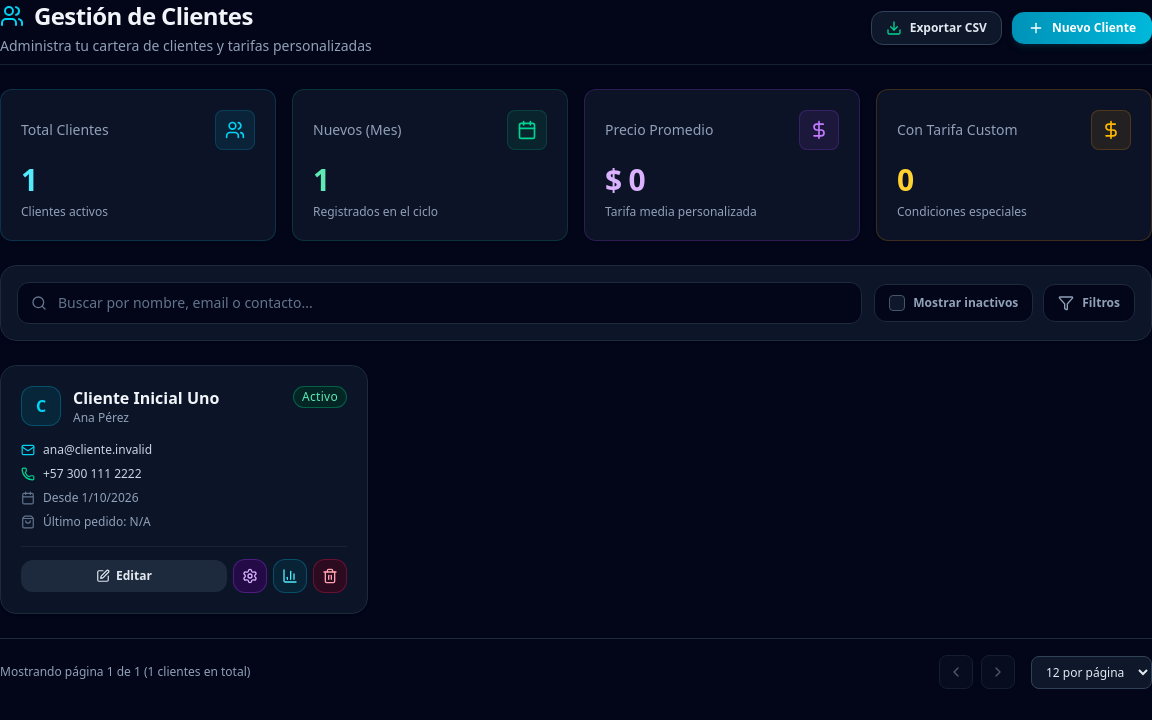
Test: Flujo representativo de creación y visualización de registros con API mockeada › permite registrar un nuevo cliente y visualizarlo inmediatamente en el listado
Expected: the heading "Cliente Inicial Uno" is shown, [73,386,219,410]
# Abrir modal de nuevo cliente
Click the button "Nuevo Cliente": point(1082, 28) [1012,12,1151,44]
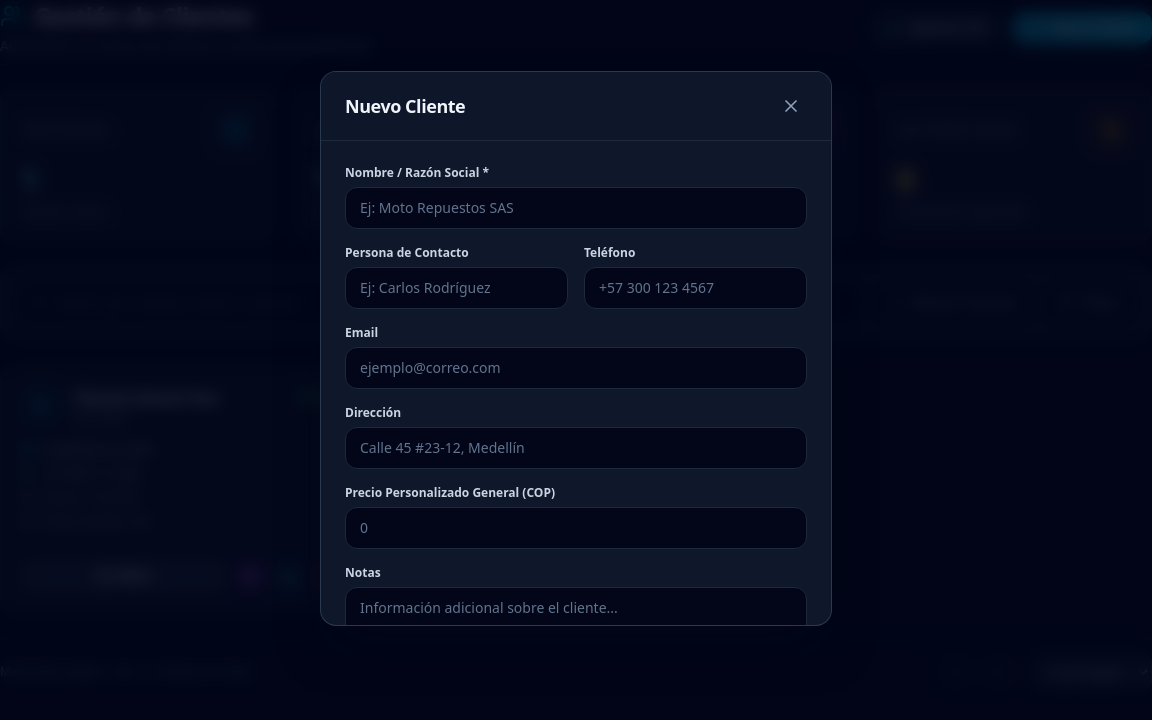
# Completar campos del formulario
In the field labelled "Nombre / Razón Social *": point(576, 208) [345,186,807,228], type "Comercializadora Pacífico S.A.S."
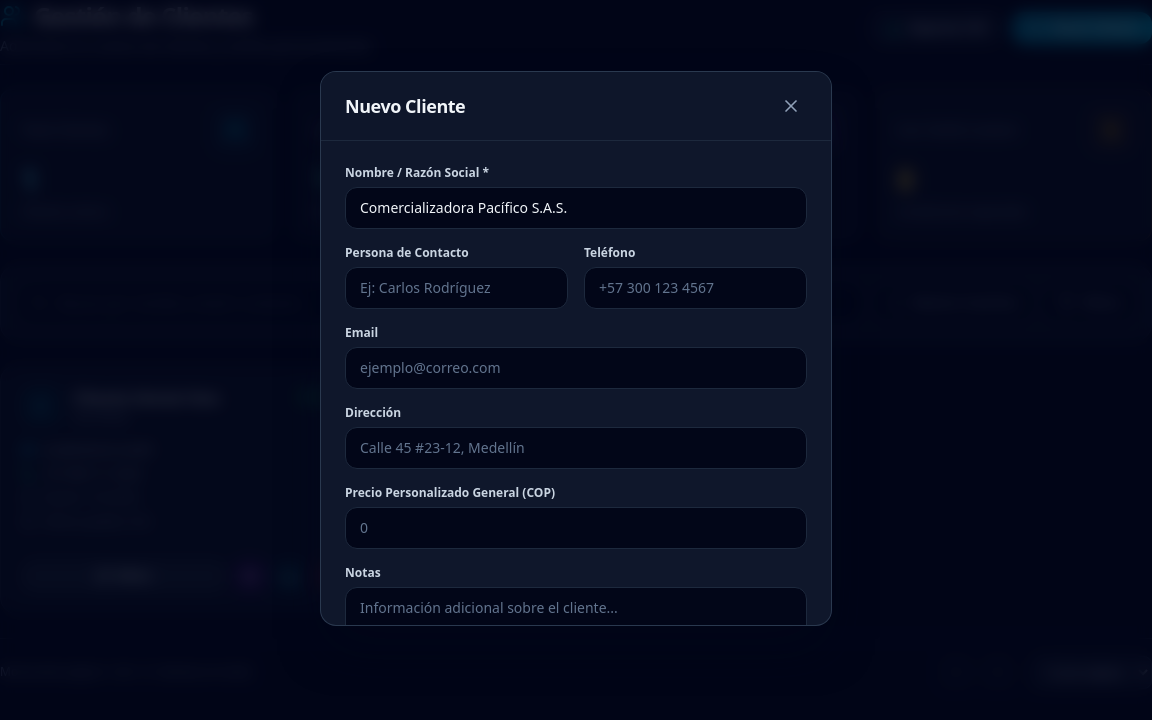
In the field labelled "Persona de Contacto": point(456, 288) [345,266,568,308], type "Carlos Gómez"
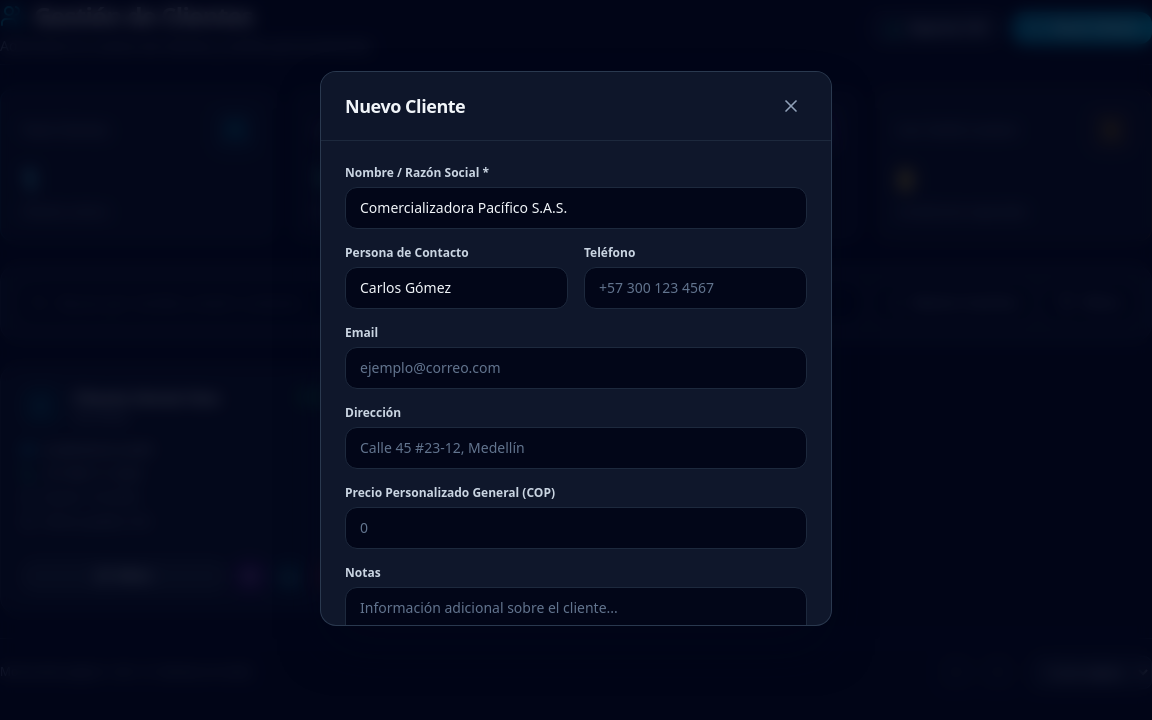
In the field labelled "Email": point(576, 368) [345,346,807,388], type "contacto@pacifico.invalid"
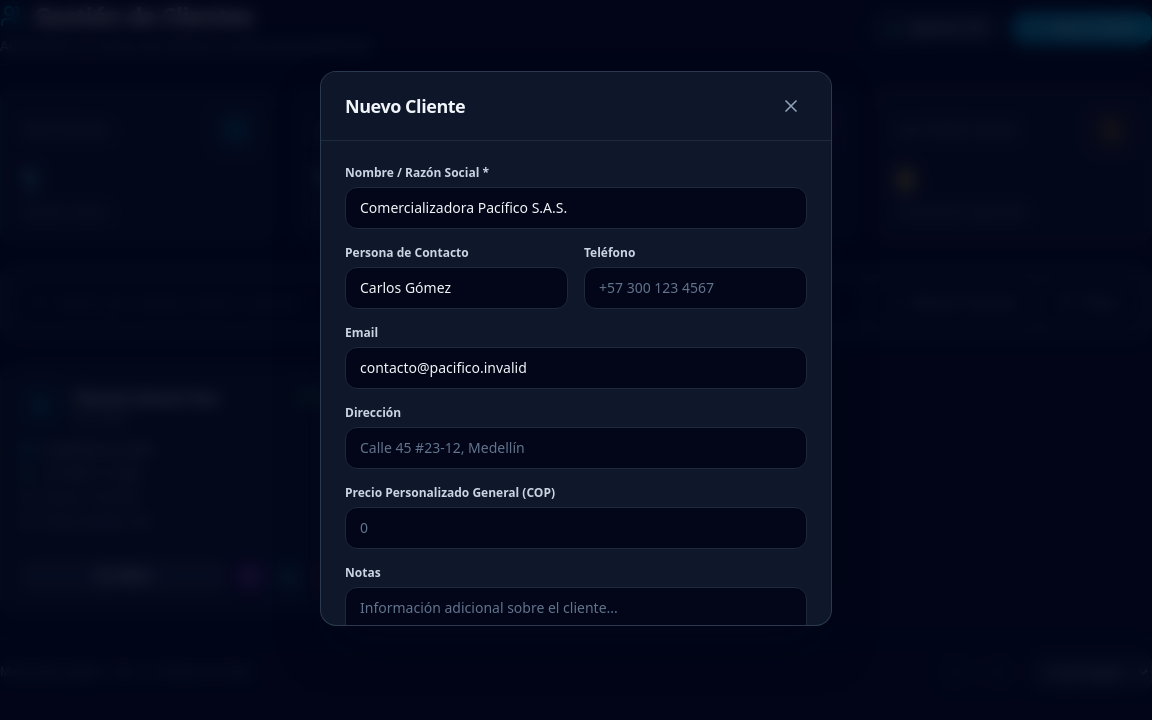
In the field labelled "Teléfono": point(696, 288) [584,266,807,308], type "+57 311 999 8888"
(page scrolled)
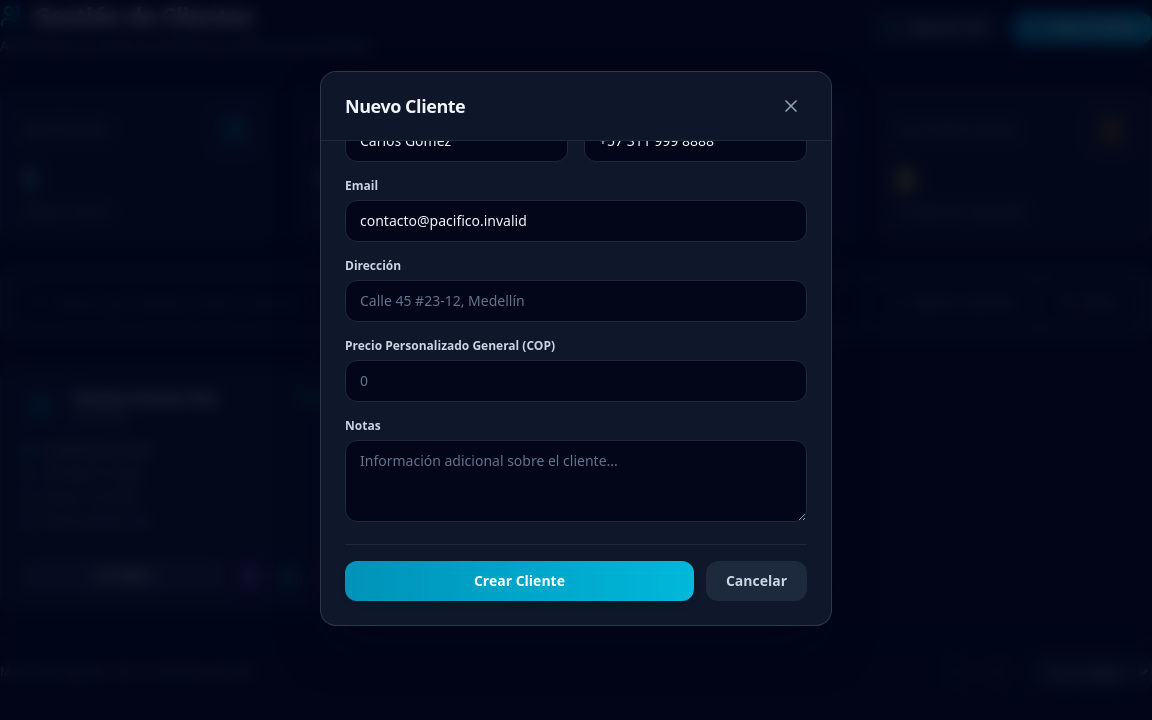
# Enviar formulario
Click the button "Crear Cliente": point(519, 580) [345,560,694,600]
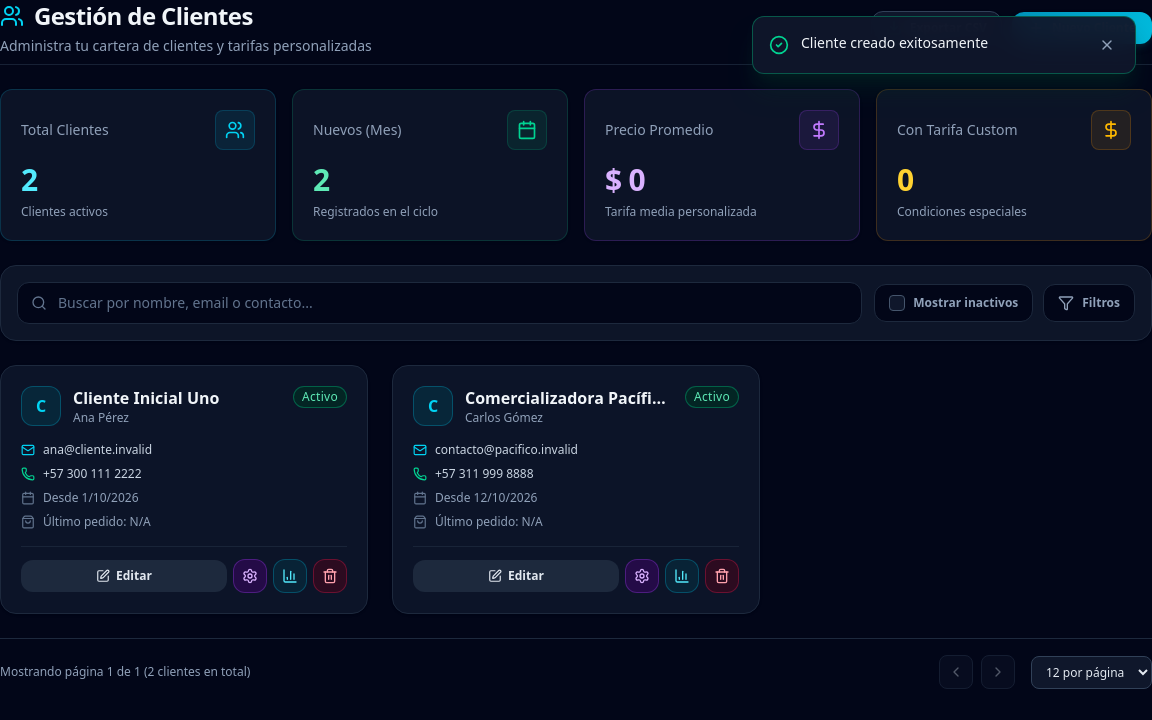
Result: the text "Cliente creado exitosamente" is shown at [801,33,988,52]
Result: the heading "Comercializadora Pacífico S.A.S." is shown at [465,386,673,410]
